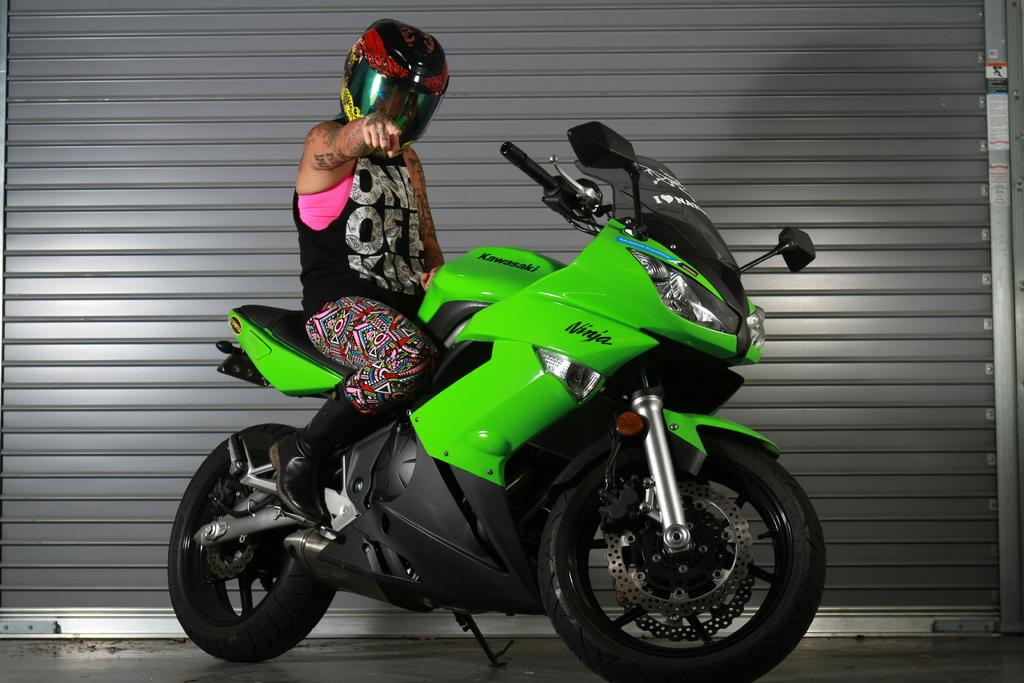helmet: (339, 18, 450, 161)
